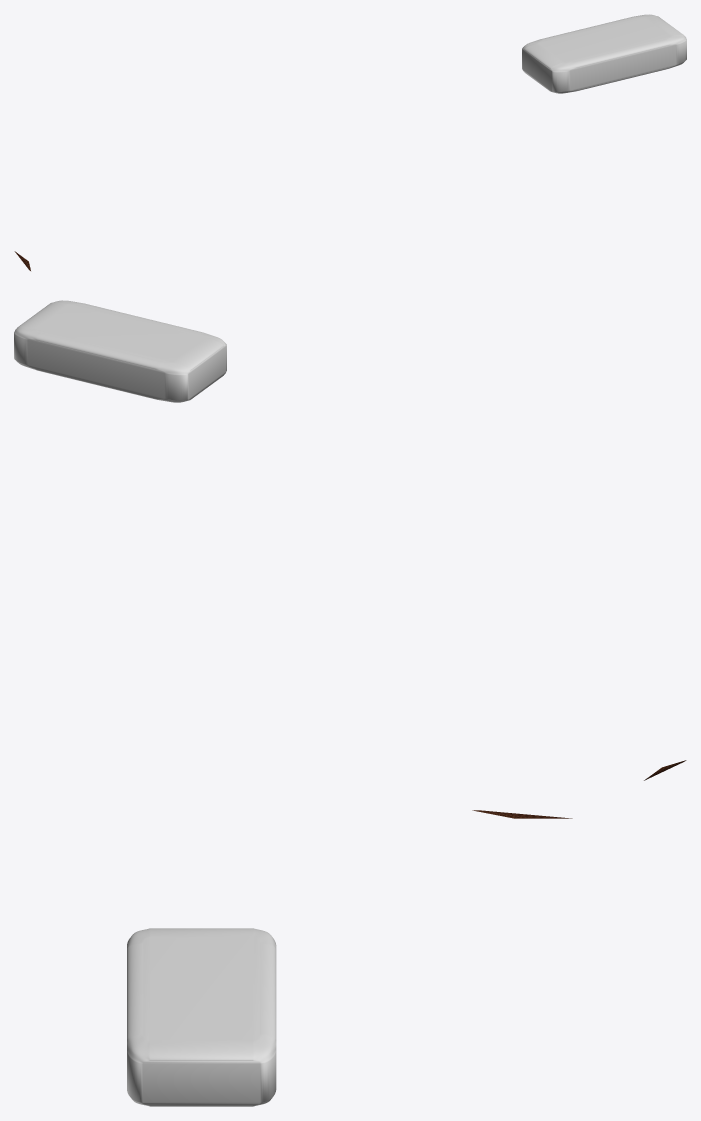
File: Qkey.glb
The picture shows the model from 3 angles, top to bottom: view 1: azimuth 30°, elevation 25°; view 2: azimuth 150°, elevation 25°; view 3: azimuth 270°, elevation 25°; orthographic projection. The views are drawn at different scales.
Visible parts, largest first — view 1: White_11; view 2: White_11; view 3: White_11.
Part boxes in pixels (x1=…): White_11: x1=522, y1=14, x2=686, y2=93; White_11: x1=14, y1=300, x2=226, y2=402; White_11: x1=127, y1=928, x2=276, y2=1106.
Size of the model in its own units: 6.75 by 1.77 by 2.28.
2 materials, 1 textured.
